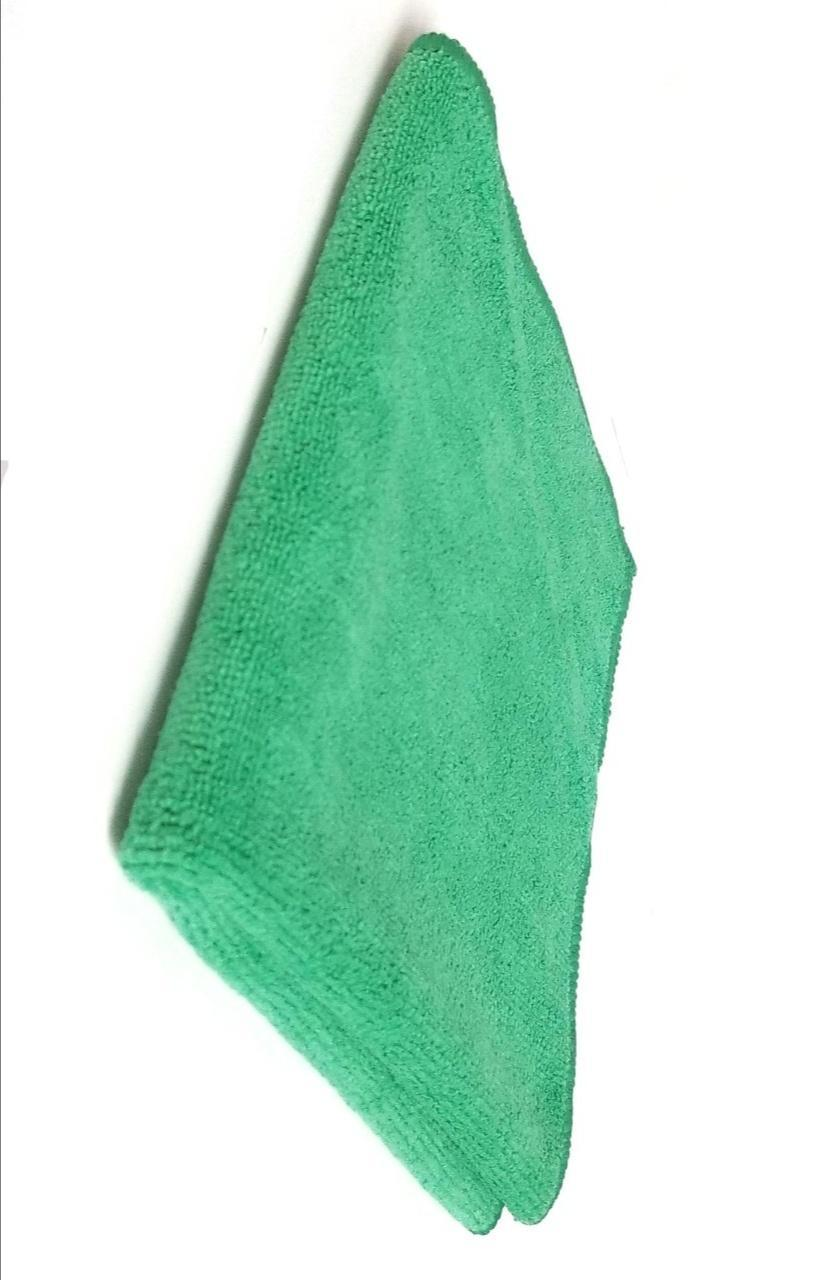towel: (20, 0, 727, 1250)
